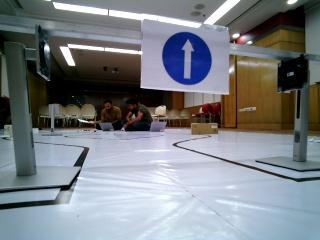straight: (142, 20, 230, 95)
